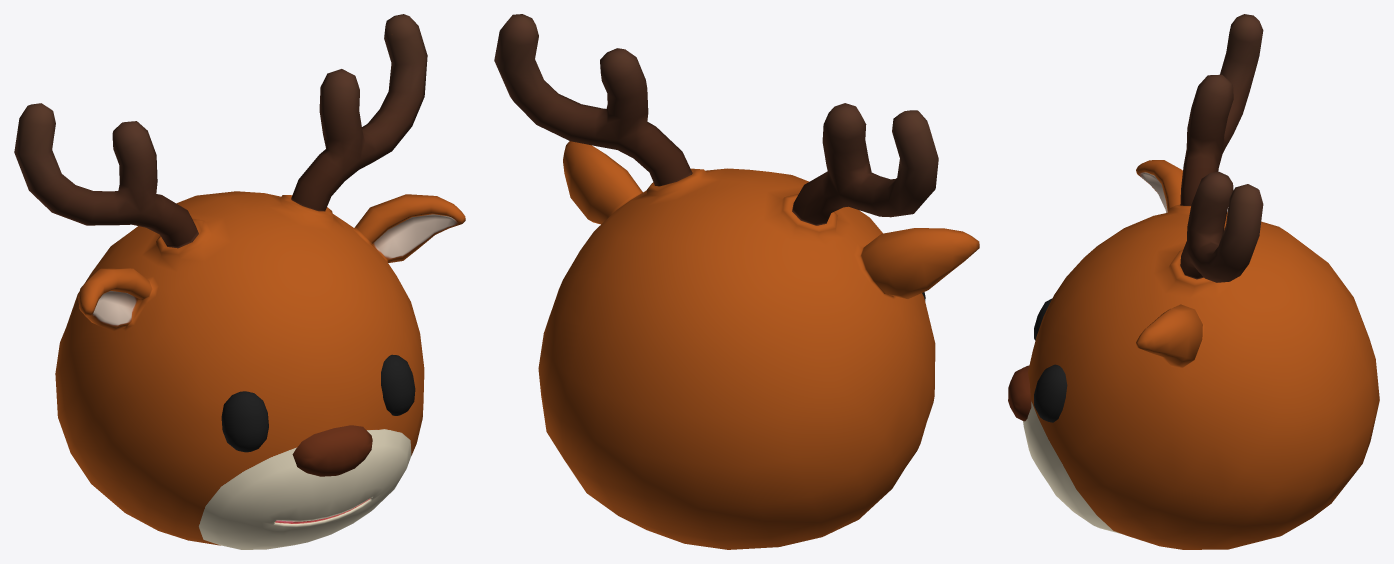
File: Deer.fbx
3 views of the same model, side by side, from view 1: azimuth 30°, elevation 25°; view 2: azimuth 150°, elevation 25°; view 3: azimuth 270°, elevation 25° (orthographic). The views are drawn at different scales.
Visible parts, largest first — view 1: Deer; view 2: Deer; view 3: Deer.
Part boxes in pixels (x1,y1,x2,y2): Deer: (14,14,465,549); Deer: (494,14,979,549); Deer: (1008,14,1379,549).
Size of the model in its own units: 52.84 by 55.18 by 43.66.
